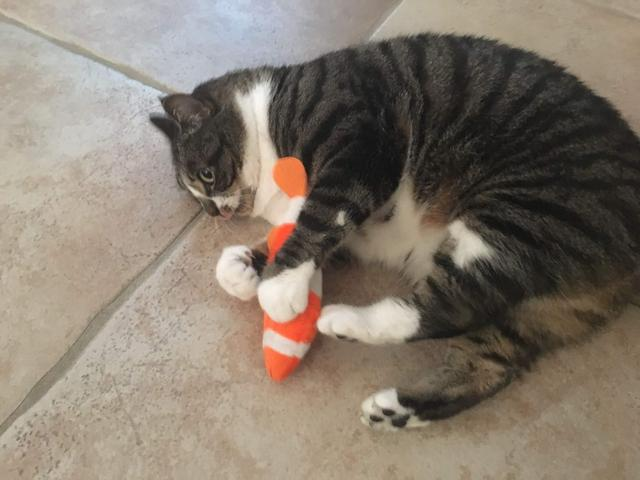clownfish: (256, 154, 324, 378)
playdoh: (145, 33, 640, 430)
